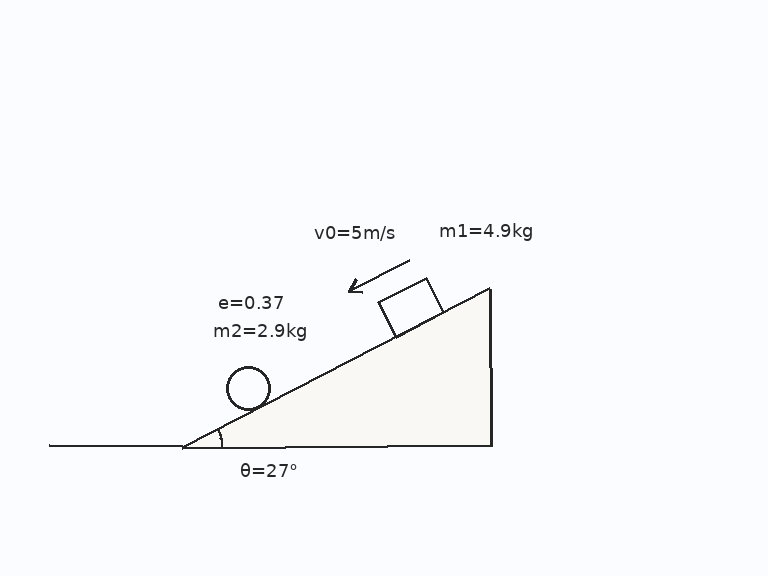ball: (224, 364, 272, 412)
block: (376, 276, 445, 339)
ramp: (180, 287, 492, 448)
